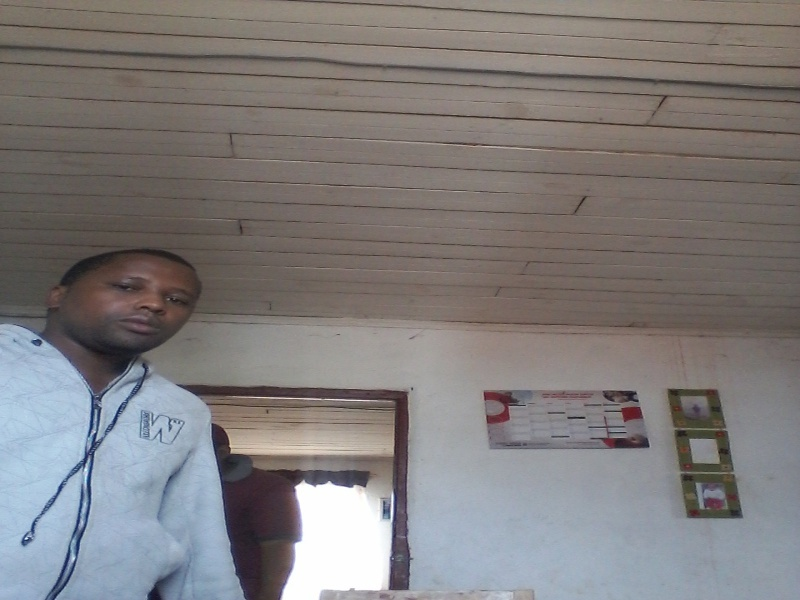TsisyArotava: (76, 238, 210, 379)
